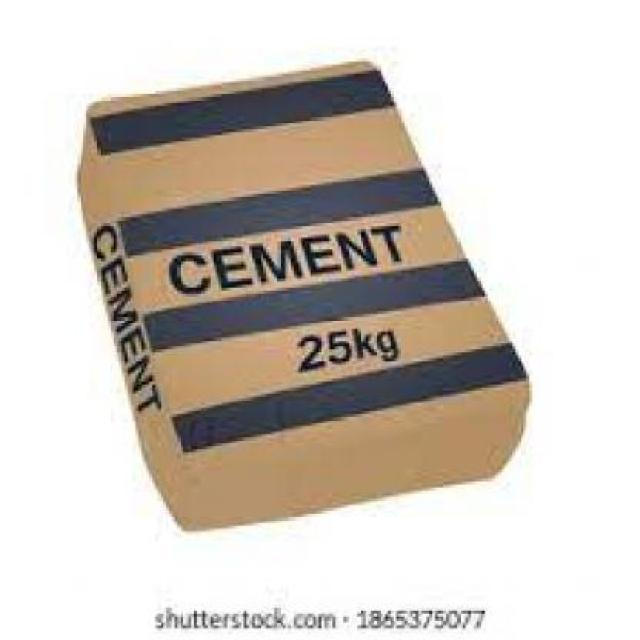gunny_bag: (92, 59, 529, 462)
